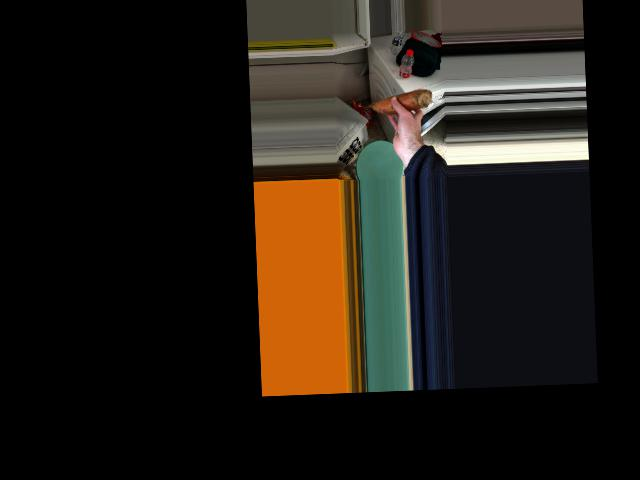sweet_potato: (369, 94, 433, 113)
